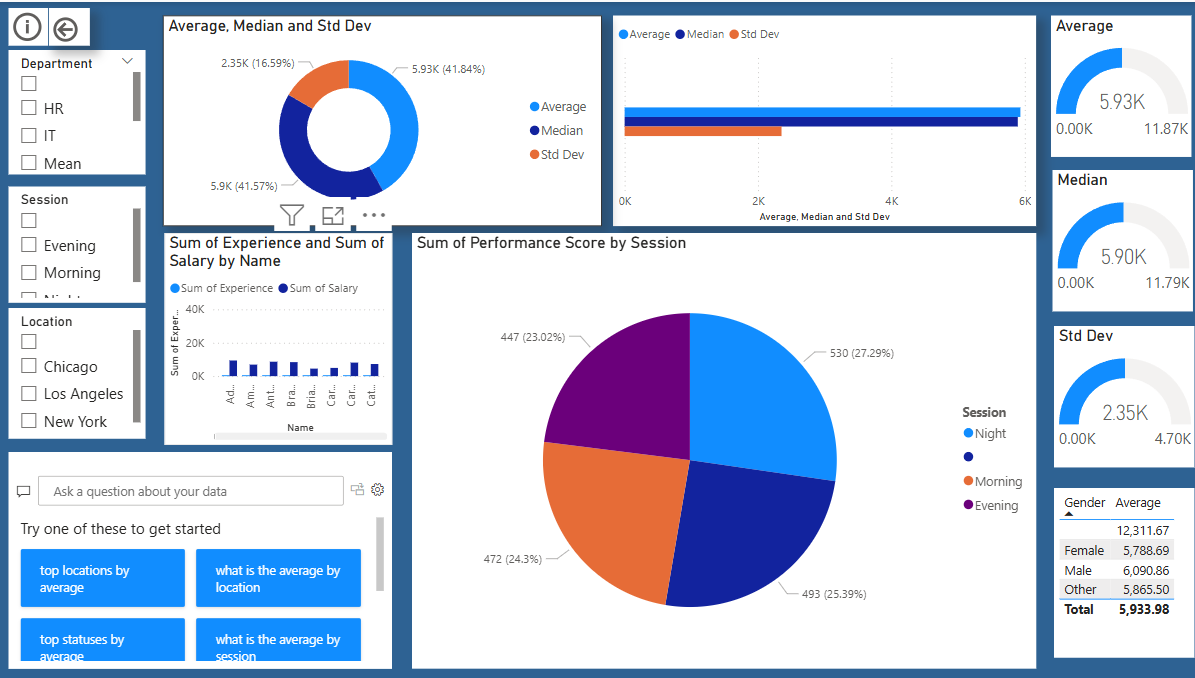

What the dashboard file says about the page in this screenshot:
{"tool":"powerbi","page":{"name":"Page 4","canvas":[1280,720],"ordinal":2},"visuals":[{"type":"clusteredBarChart","fields":{"Y":["DataSet.Average","DataSet.Median","DataSet.Std Dev"]},"box":[651.7,15,448.3,223.3],"z":0},{"type":"donutChart","fields":{"Y":["DataSet.Average","DataSet.Median","DataSet.Std Dev"]},"box":[175,15,465,223.3],"z":1000},{"type":"slicer","fields":{"Values":["DataSet.Department"]},"box":[11.7,51.7,145,131.7],"z":2000},{"type":"slicer","fields":{"Values":["DataSet.Session"]},"box":[11.7,195,145,123.3],"z":3000},{"type":"slicer","fields":{"Values":["DataSet.Location"]},"box":[11.7,325,145,138.3],"z":4000},{"type":"qnaVisual","box":[11.7,476.7,406.7,230],"z":5000},{"type":"gauge","fields":{"Y":["DataSet.Std Dev"]},"box":[1120,343.3,150,150],"z":6000},{"type":"gauge","fields":{"Y":["DataSet.Median"]},"box":[1118.3,178.3,150,150],"z":7000},{"type":"gauge","fields":{"Y":["DataSet.Average"]},"box":[1116.7,15,150,150],"z":8000},{"type":"actionButton","box":[53.3,6.7,43.3,40],"z":9000},{"type":"actionButton","box":[11.7,6.7,41.7,40],"z":10000},{"type":"lineClusteredColumnComboChart","fields":{"Y":["DataSet.Experience","DataSet.Salary"],"Category":["DataSet.Name"]},"box":[176.7,244.4,241.1,224.4],"z":11000},{"type":"tableEx","fields":{"Values":["DataSet.Gender","DataSet.Average"]},"box":[1120,515,150,180],"z":12000},{"type":"pieChart","fields":{"Y":["DataSet.Performance Score"],"Category":["DataSet.Session"]},"box":[438.3,245,661.7,461.7],"z":13000}]}

Visuals, with their boxes in screenshot pixels (x1, y1, x2, y2), scaled from the page's 1280x720 canvas onto the 1195x678 screenshot:
clusteredBarChart - DataSet.Average x DataSet.Median: 608 14 1027 224
donutChart - DataSet.Average x DataSet.Median: 163 14 598 224
slicer - DataSet.Department: 11 49 146 173
slicer - DataSet.Session: 11 184 146 300
slicer - DataSet.Location: 11 306 146 436
qnaVisual: 11 449 391 665
gauge - DataSet.Std Dev: 1046 323 1186 465
gauge - DataSet.Median: 1044 168 1184 309
gauge - DataSet.Average: 1043 14 1183 155
actionButton: 50 6 90 44
actionButton: 11 6 50 44
lineClusteredColumnComboChart - DataSet.Experience x DataSet.Salary: 165 230 390 441
tableEx - DataSet.Gender x DataSet.Average: 1046 485 1186 654
pieChart - DataSet.Performance Score x DataSet.Session: 409 231 1027 665
